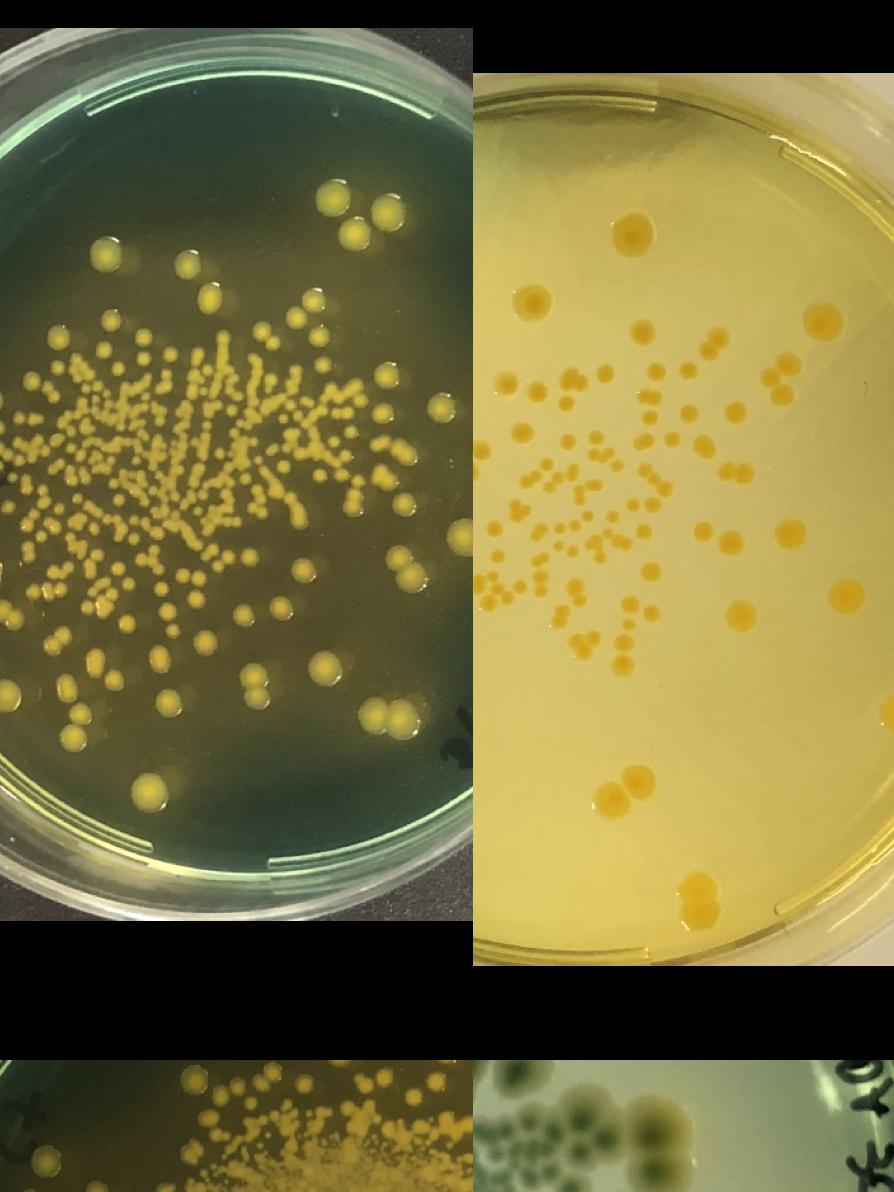valgino: (626, 1097, 686, 1157), (490, 1060, 553, 1100), (514, 1103, 540, 1129)
vharveyi: (337, 192, 411, 255), (594, 760, 658, 818), (55, 670, 92, 754), (358, 692, 421, 740), (542, 464, 603, 508), (760, 347, 804, 406), (679, 872, 719, 932), (376, 467, 420, 520), (384, 542, 428, 593), (21, 357, 67, 405), (800, 298, 847, 344), (608, 212, 654, 258), (84, 645, 128, 693), (582, 525, 633, 564), (130, 770, 172, 815), (284, 286, 326, 330), (314, 176, 354, 218), (305, 646, 345, 688), (239, 660, 270, 712), (174, 566, 210, 610), (610, 618, 636, 678), (480, 567, 514, 611), (89, 236, 127, 274), (636, 462, 676, 497), (424, 389, 460, 427), (828, 577, 864, 613), (722, 598, 758, 634), (514, 284, 550, 320), (153, 684, 185, 720), (40, 624, 76, 656), (698, 326, 730, 362), (445, 515, 473, 556), (134, 541, 166, 576), (195, 278, 224, 316), (444, 1112, 473, 1150), (198, 1107, 230, 1140), (289, 552, 320, 586), (171, 246, 202, 280), (877, 673, 894, 735), (155, 600, 181, 640), (586, 446, 626, 472), (775, 518, 807, 550), (252, 1060, 284, 1092), (372, 358, 402, 391), (130, 327, 154, 368), (0, 595, 27, 631), (714, 462, 754, 486), (568, 630, 600, 660), (192, 626, 220, 660), (44, 320, 73, 352), (0, 675, 23, 715), (209, 1080, 244, 1106), (530, 548, 548, 598), (268, 591, 296, 623), (148, 642, 174, 676), (34, 1146, 62, 1176), (327, 424, 360, 449), (558, 367, 590, 392), (230, 600, 258, 628), (96, 306, 124, 334), (180, 1065, 208, 1093), (334, 466, 366, 489), (277, 398, 304, 425), (210, 547, 238, 573), (507, 499, 533, 524), (80, 378, 105, 403), (308, 323, 332, 349), (371, 399, 394, 425), (114, 613, 138, 637), (724, 399, 748, 423), (720, 528, 744, 552), (638, 560, 662, 584), (524, 379, 548, 403), (510, 421, 534, 445), (495, 371, 519, 395), (181, 1138, 204, 1163), (567, 578, 586, 608), (552, 538, 580, 558), (240, 546, 264, 568), (402, 1085, 426, 1107), (693, 432, 715, 455), (676, 401, 699, 423), (646, 359, 668, 382), (632, 320, 654, 343), (596, 361, 618, 384), (293, 1072, 316, 1094), (516, 468, 540, 489), (342, 497, 364, 519), (250, 318, 272, 340), (692, 519, 714, 541), (618, 592, 640, 614), (558, 430, 580, 452), (426, 1070, 448, 1092), (374, 1065, 396, 1087), (632, 431, 656, 451), (550, 606, 570, 630), (20, 538, 38, 564), (329, 404, 358, 420), (92, 338, 114, 359), (676, 359, 698, 380), (528, 521, 548, 543), (636, 389, 664, 404), (313, 354, 333, 374), (53, 580, 73, 600), (22, 580, 42, 600), (473, 437, 491, 459), (274, 457, 294, 475), (152, 579, 172, 597), (108, 357, 126, 377), (0, 497, 18, 517), (662, 430, 682, 448), (633, 522, 653, 540), (258, 1108, 278, 1126), (558, 394, 577, 412), (405, 1135, 423, 1153), (161, 344, 180, 361), (199, 1160, 218, 1177), (80, 598, 96, 616), (640, 408, 658, 424), (586, 428, 604, 444), (512, 576, 530, 592), (87, 1179, 109, 1192), (644, 496, 661, 512), (489, 547, 506, 563), (486, 518, 503, 534), (624, 495, 640, 511), (538, 454, 554, 470), (121, 576, 138, 590), (110, 494, 128, 507), (455, 1150, 473, 1163), (312, 468, 328, 482), (264, 372, 280, 386), (225, 402, 239, 418), (127, 529, 141, 545), (52, 502, 68, 516), (644, 606, 660, 620), (192, 503, 207, 517), (5, 470, 20, 484), (212, 444, 225, 460), (104, 587, 120, 600), (88, 521, 102, 535), (70, 490, 84, 504), (36, 482, 50, 496), (34, 528, 48, 542), (12, 452, 26, 466), (569, 518, 583, 532), (552, 521, 566, 535), (438, 1110, 452, 1124), (412, 1119, 426, 1133), (382, 1122, 396, 1136), (362, 1100, 376, 1114), (342, 1100, 356, 1114), (244, 1095, 258, 1109), (110, 561, 125, 574), (29, 507, 42, 521), (605, 509, 619, 522), (473, 576, 484, 592), (252, 453, 266, 465), (106, 477, 120, 489), (64, 441, 78, 453), (46, 463, 60, 475), (580, 508, 594, 520), (356, 1078, 370, 1090), (316, 1104, 328, 1118), (40, 443, 52, 456), (240, 472, 252, 484), (131, 454, 143, 466), (0, 553, 5, 581), (0, 384, 5, 412), (473, 460, 478, 484), (157, 1184, 171, 1192)
